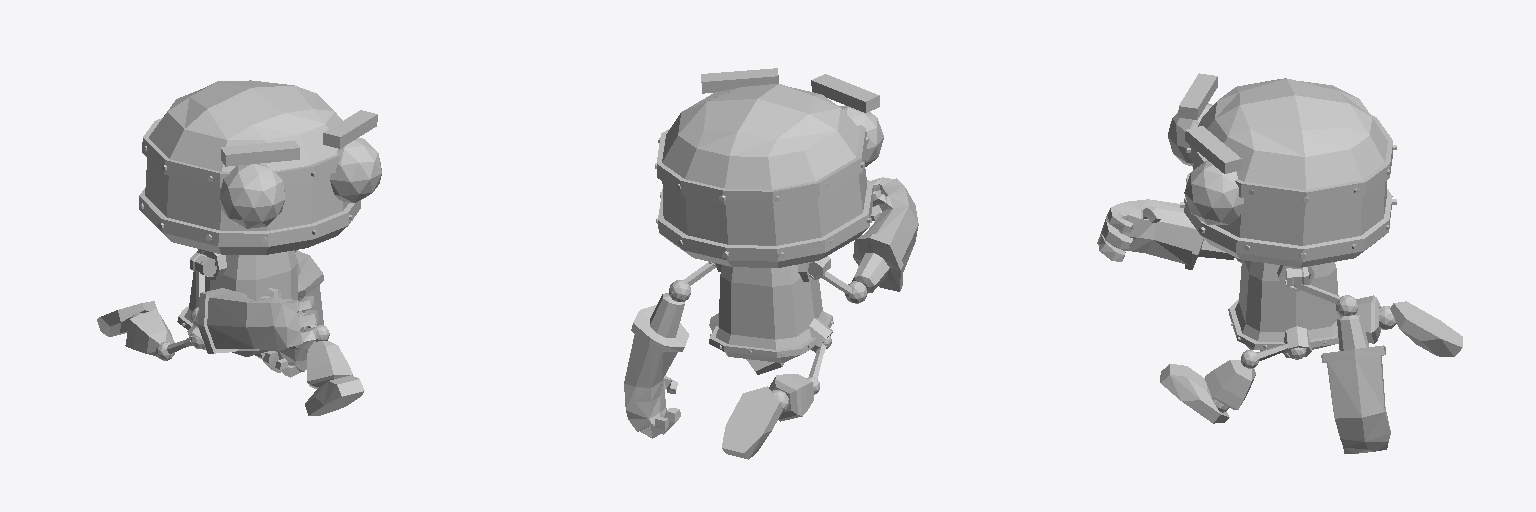
The model's file is Robot_000003.obj.
3 views of the same model, side by side, from view 1: azimuth 30°, elevation 25°; view 2: azimuth 150°, elevation 25°; view 3: azimuth 270°, elevation 25° (orthographic).
Visible parts, largest first — view 1: Head_Cylinder, Hand.R_Cylinder.015, Torso_Cube.001, Hand.L_Cylinder.022, LowerLeg.L_Cylinder.012, Foot.L_Cylinder.014, LowerLeg.R_Cylinder.018, Foot.R_Cylinder.017; view 2: Head_Cylinder, Torso_Cube.001, Hand.L_Cylinder.022, Hand.R_Cylinder.015, Foot.R_Cylinder.017, LowerLeg.R_Cylinder.018, Arm.L_Cylinder.010, Arm.R_Cylinder.013; view 3: Head_Cylinder, Torso_Cube.001, Hand.L_Cylinder.022, Hand.R_Cylinder.015, Foot.R_Cylinder.017, Foot.L_Cylinder.014, LowerLeg.L_Cylinder.012, LowerLeg.R_Cylinder.018, Arm.L_Cylinder.010, Leg.L_Cylinder.011.
Boxes of the visible parts, x1=… form: Head_Cylinder: x1=139, y1=80, x2=381, y2=254; Hand.R_Cylinder.015: x1=196, y1=288, x2=319, y2=353; Torso_Cube.001: x1=177, y1=249, x2=308, y2=356; Hand.L_Cylinder.022: x1=255, y1=251, x2=323, y2=377; LowerLeg.L_Cylinder.012: x1=306, y1=341, x2=352, y2=388; Foot.L_Cylinder.014: x1=305, y1=375, x2=364, y2=415; LowerLeg.R_Cylinder.018: x1=125, y1=309, x2=174, y2=356; Foot.R_Cylinder.017: x1=97, y1=301, x2=156, y2=336; Head_Cylinder: x1=655, y1=68, x2=883, y2=267; Torso_Cube.001: x1=709, y1=262, x2=833, y2=362; Hand.L_Cylinder.022: x1=624, y1=293, x2=688, y2=438; Hand.R_Cylinder.015: x1=852, y1=177, x2=918, y2=293; Foot.R_Cylinder.017: x1=722, y1=386, x2=782, y2=459; LowerLeg.R_Cylinder.018: x1=769, y1=374, x2=813, y2=421; Arm.L_Cylinder.010: x1=669, y1=262, x2=715, y2=301; Arm.R_Cylinder.013: x1=822, y1=271, x2=866, y2=303; Head_Cylinder: x1=1168, y1=73, x2=1396, y2=267; Torso_Cube.001: x1=1228, y1=260, x2=1339, y2=359; Hand.L_Cylinder.022: x1=1321, y1=314, x2=1390, y2=453; Hand.R_Cylinder.015: x1=1097, y1=199, x2=1234, y2=269; Foot.R_Cylinder.017: x1=1390, y1=301, x2=1462, y2=356; Foot.L_Cylinder.014: x1=1160, y1=364, x2=1229, y2=423; LowerLeg.L_Cylinder.012: x1=1205, y1=360, x2=1255, y2=412; LowerLeg.R_Cylinder.018: x1=1356, y1=295, x2=1396, y2=343; Arm.L_Cylinder.010: x1=1294, y1=284, x2=1357, y2=315; Leg.L_Cylinder.011: x1=1241, y1=343, x2=1290, y2=368.
Size of the model in its own units: 2.68 by 4.15 by 4.25.